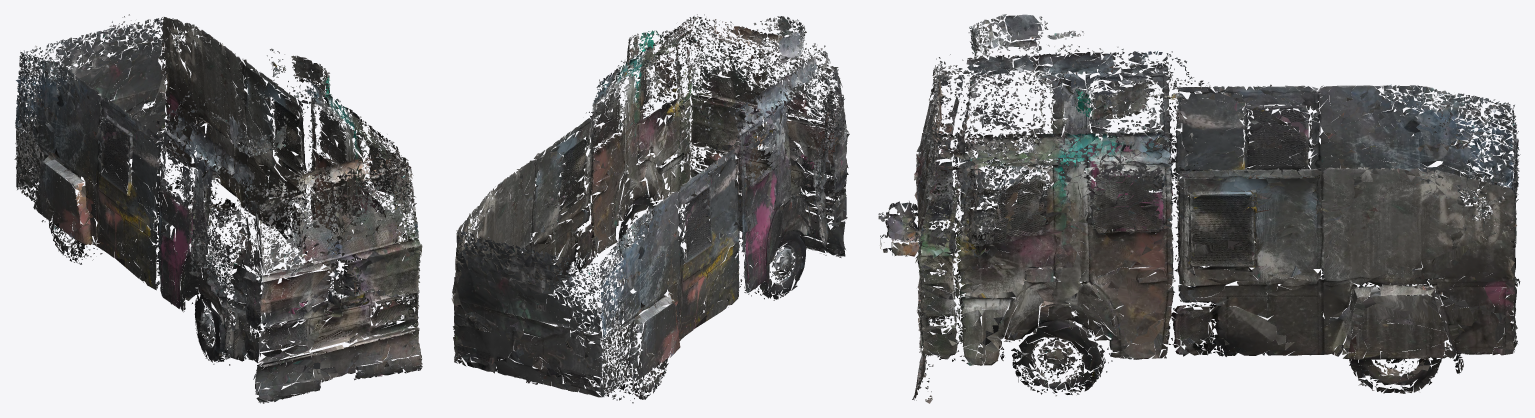
The model's file is guanaco.glb.
3 views of the same model, side by side, from view 1: azimuth 30°, elevation 25°; view 2: azimuth 150°, elevation 25°; view 3: azimuth 270°, elevation 25° (orthographic). The views are drawn at different scales.
Visible parts, largest first — view 1: Object_2; view 2: Object_2; view 3: Object_2.
Boxes of the visible parts, x1,y1,x2,y2 form: Object_2: (14, 14, 422, 403); Object_2: (451, 14, 849, 403); Object_2: (878, 14, 1520, 403).
Size of the model in its own units: 19.2 by 23.63 by 44.54.
8 materials, 8 textured.
